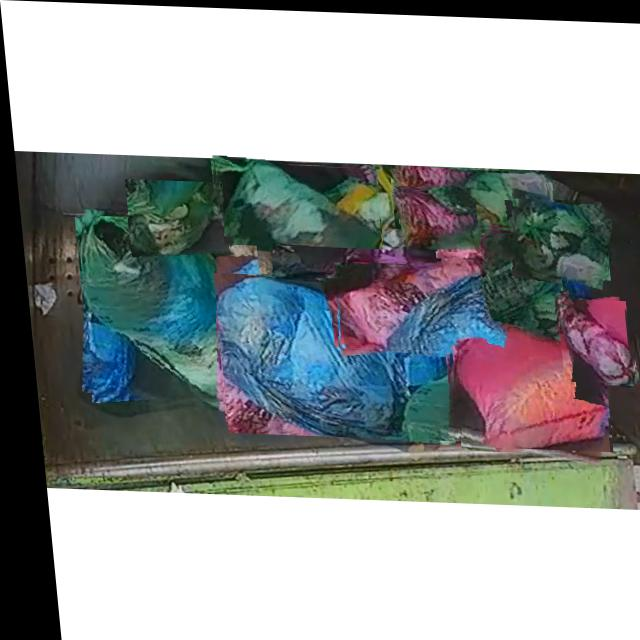general_trashbag: (78, 216, 262, 401), (213, 159, 377, 246), (433, 231, 560, 313), (391, 169, 546, 225), (510, 196, 602, 272), (127, 182, 214, 254)
other_trashbag: (211, 273, 445, 435), (453, 322, 600, 445), (332, 256, 475, 345), (554, 300, 628, 379), (399, 189, 472, 246)
